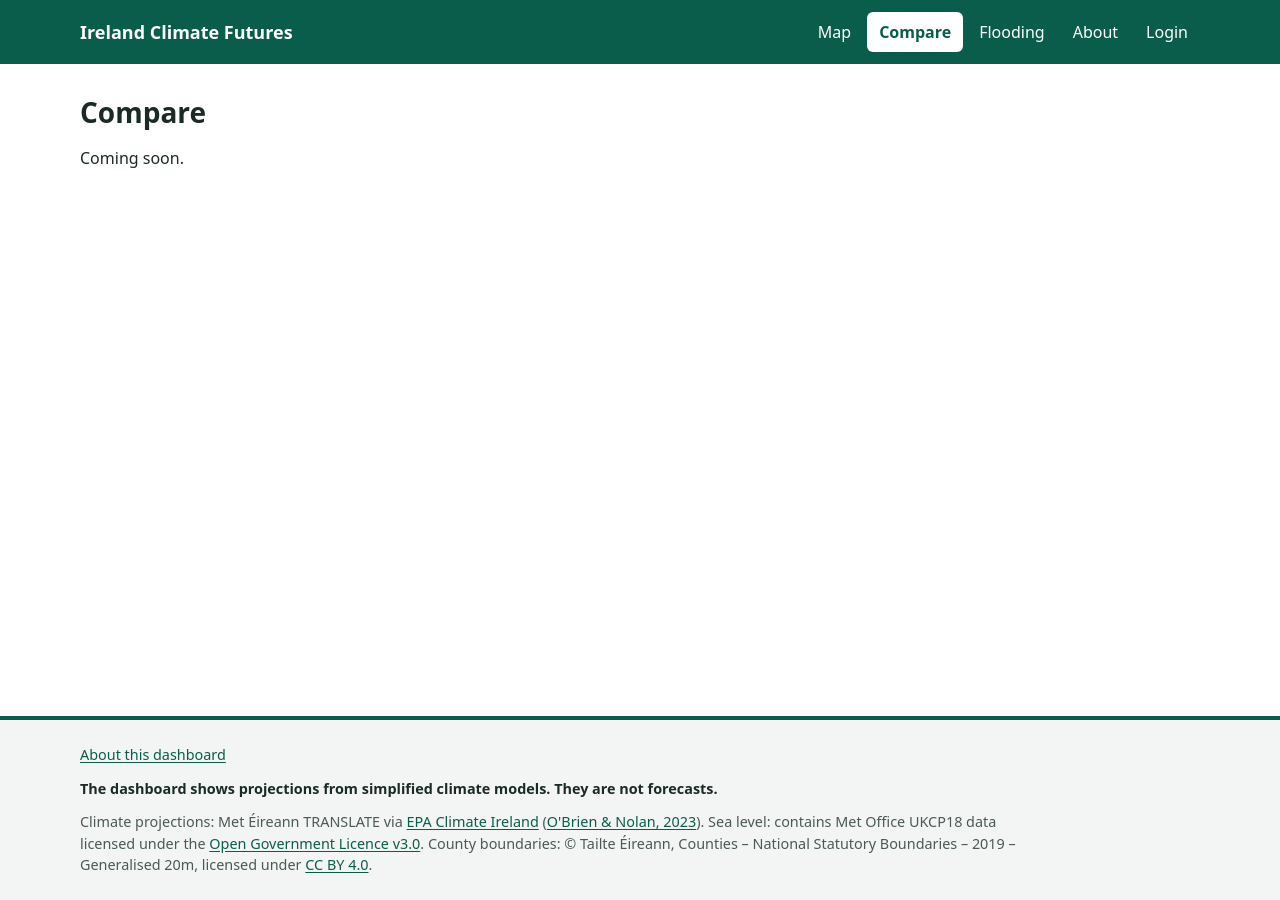
Test: moving around the site › the brand link goes back to the home page
Click the link "Ireland Climate Futures".
click(186, 32)  # box [80, 18, 293, 46]
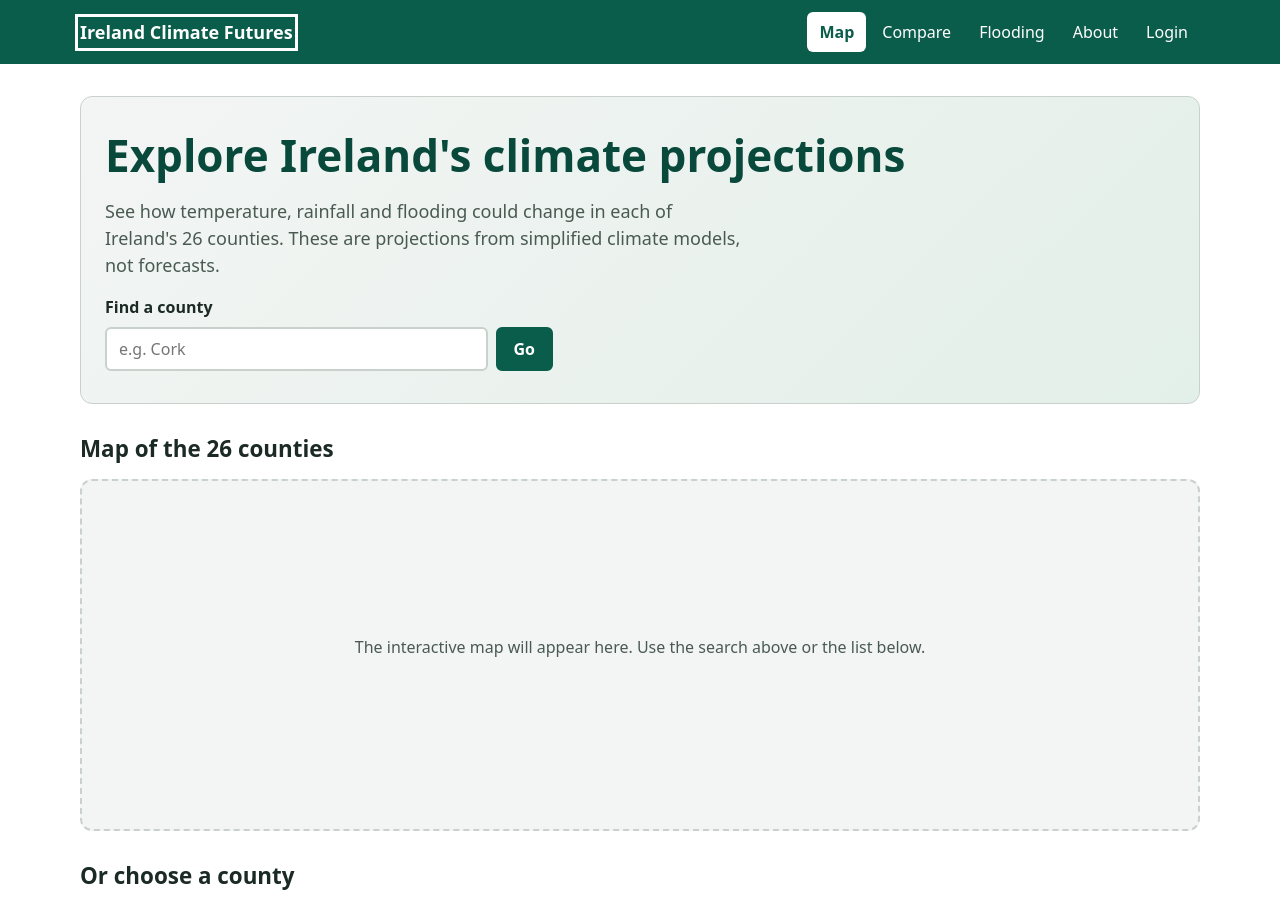
Expected: the heading "Explore Ireland's climate projections" is shown, [105, 125, 905, 185]
